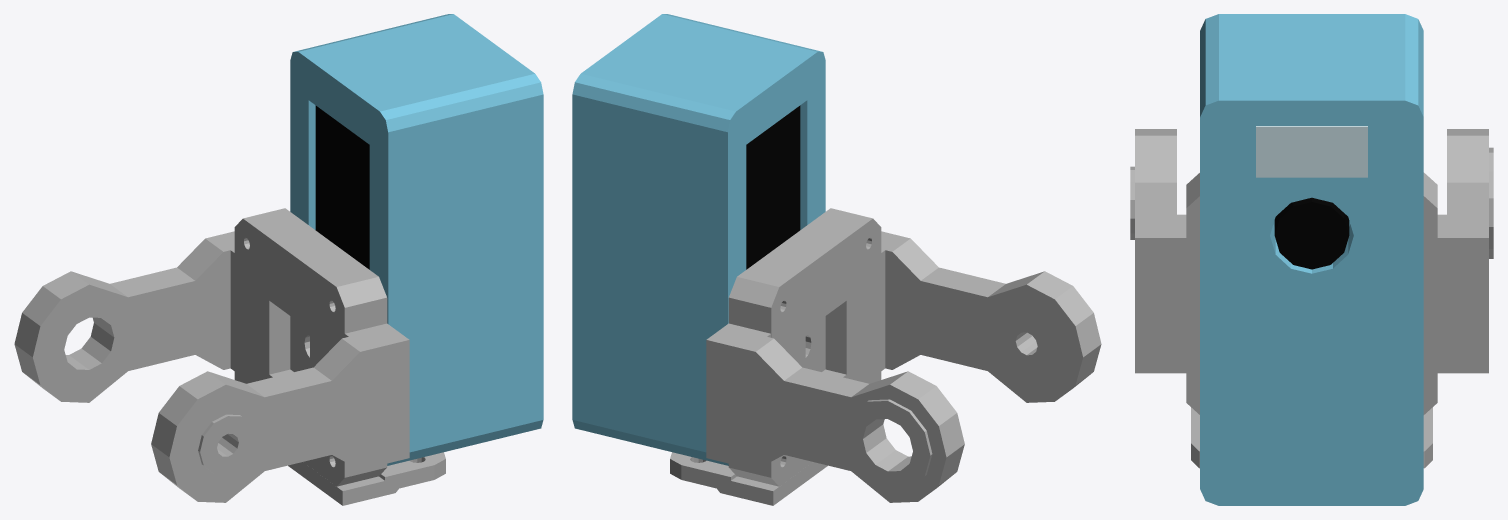
Rendered from head-leye-y_mesh.glb.
The picture shows the model from 3 angles, left to right: view 1: azimuth 30°, elevation 25°; view 2: azimuth 150°, elevation 25°; view 3: azimuth 270°, elevation 25°; orthographic projection. The views are drawn at different scales.
Parts seen in each view (by area): view 1: base2_M1KShape4, base2_M1KShape1, base2_M1KShape2, base2_M1KShape0, base2_M1KShape5, base2_M1KShape3; view 2: base2_M1KShape4, base2_M1KShape2, base2_M1KShape1, base2_M1KShape0, base2_M1KShape5, base2_M1KShape3; view 3: base2_M1KShape4, base2_M1KShape2, base2_M1KShape1, base2_M1KShape0, base2_M1KShape7, base2_M1KShape6, base2_M1KShape3.
Part boxes in pixels (x1,y1,x2,y2): base2_M1KShape4: (290, 14, 543, 465); base2_M1KShape1: (151, 323, 409, 502); base2_M1KShape2: (14, 231, 234, 402); base2_M1KShape0: (234, 208, 387, 486); base2_M1KShape5: (315, 105, 369, 269); base2_M1KShape3: (288, 452, 445, 505); base2_M1KShape4: (572, 14, 825, 465); base2_M1KShape2: (706, 323, 964, 502); base2_M1KShape1: (881, 231, 1101, 402); base2_M1KShape0: (728, 208, 881, 486); base2_M1KShape5: (746, 105, 800, 269); base2_M1KShape3: (670, 452, 827, 505); base2_M1KShape4: (1200, 14, 1423, 505); base2_M1KShape2: (1437, 129, 1493, 373); base2_M1KShape1: (1130, 129, 1186, 373); base2_M1KShape0: (1186, 172, 1437, 414); base2_M1KShape7: (1256, 126, 1367, 177); base2_M1KShape6: (1274, 197, 1349, 269); base2_M1KShape3: (1191, 407, 1432, 468).
Size of the model in its own units: 0.0572 by 0.0505 by 0.039.
